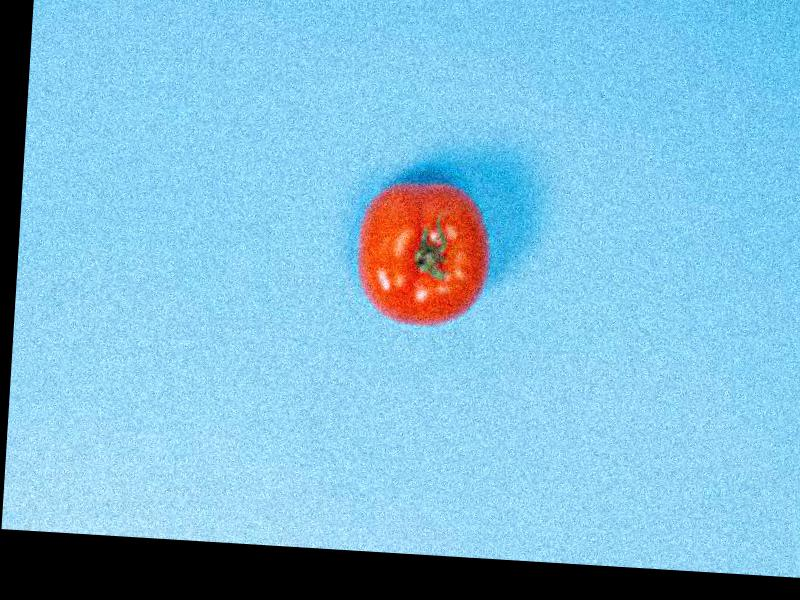Tomato: (355, 179, 497, 331)
